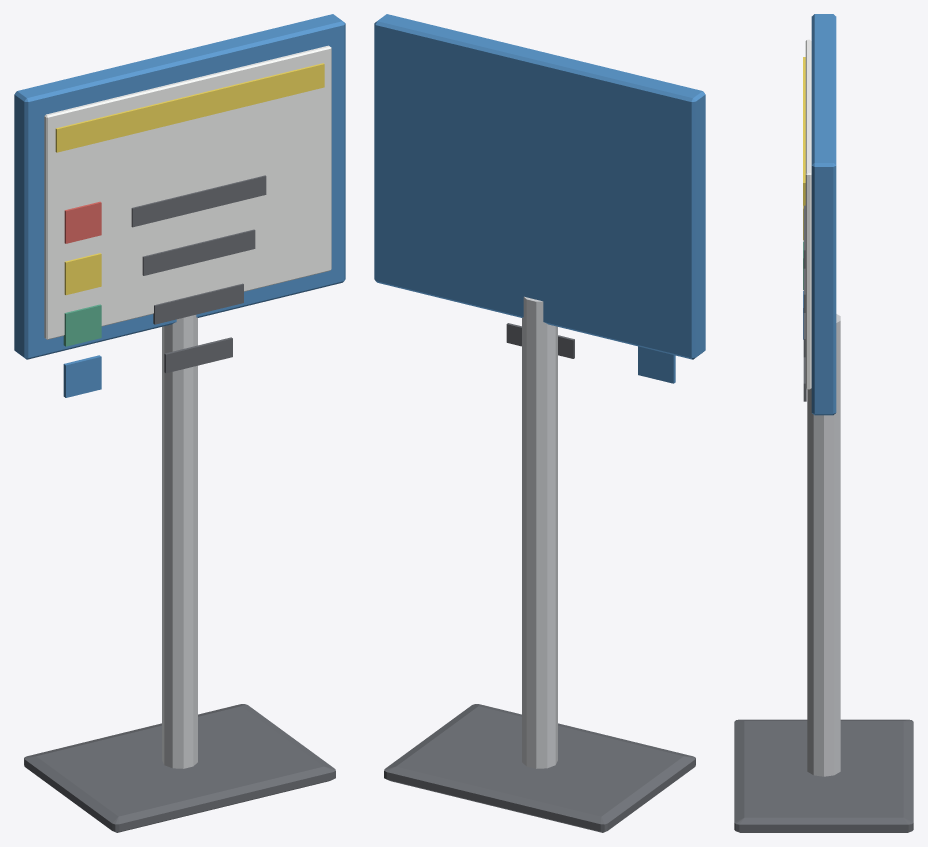
File: public-swimming-baths-and-poolside-lane-marker-board-4f2f1a7e__35257.glb
The picture shows the model from 3 angles, left to right: view 1: azimuth 30°, elevation 25°; view 2: azimuth 150°, elevation 25°; view 3: azimuth 270°, elevation 25°; orthographic projection. The views are drawn at different scales.
Parts seen in each view (by area): view 1: lane-marker-board; view 2: lane-marker-board; view 3: lane-marker-board.
Part boxes in pixels (bbox=[...]): lane-marker-board: bbox=[14, 14, 345, 832]; lane-marker-board: bbox=[374, 14, 705, 832]; lane-marker-board: bbox=[734, 14, 913, 832].
Size of the model in its own units: 0.72 by 1.54 by 0.36.
